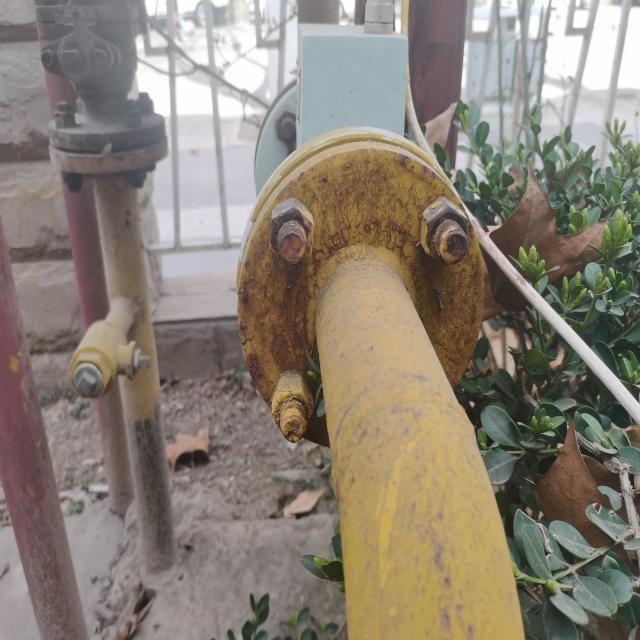blur bolt: (274, 107, 300, 147)
bolt nut: (420, 195, 469, 268), (269, 197, 315, 270), (270, 372, 316, 443)
bolt side: (53, 104, 77, 130)
